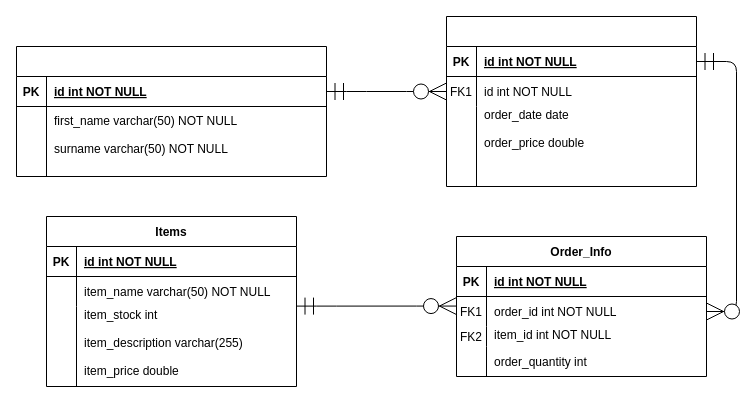
Some shapes in this 756 by 403 pixel diagram are drawn without their labels. Each missing label, with the box of its shape:
Customers: (16, 46, 326, 176)
Orders: (446, 16, 696, 186)
